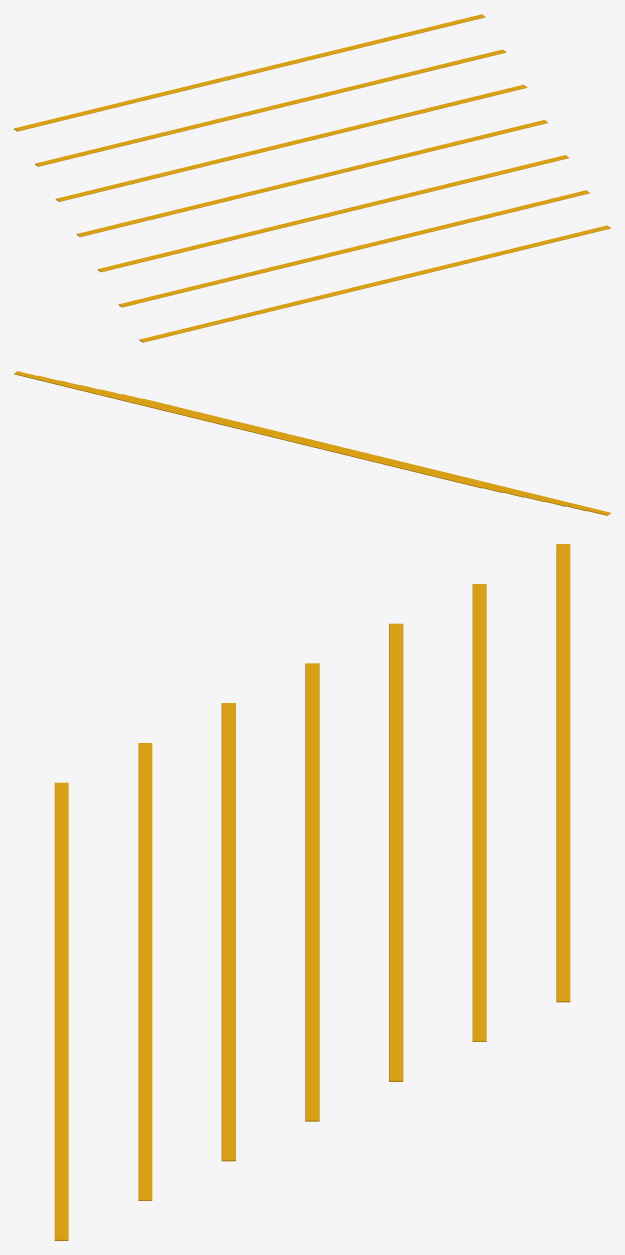
File: gteki_ik_stair_n7_r171_t326_w4230_nosing.glb
3 renders of one model, top to bottom at view 1: azimuth 30°, elevation 25°; view 2: azimuth 150°, elevation 25°; view 3: azimuth 270°, elevation 25°, orthographic. The views are drawn at different scales.
Visible parts, largest first — view 1: VIS_nosings; view 2: VIS_nosings; view 3: VIS_nosings.
Boxes of the visible parts, x1,y1,x2,y2 form: VIS_nosings: [14, 14, 610, 342]; VIS_nosings: [14, 371, 610, 515]; VIS_nosings: [54, 544, 570, 1240].
Size of the model in its own units: 4.21 by 1.03 by 2.01.
